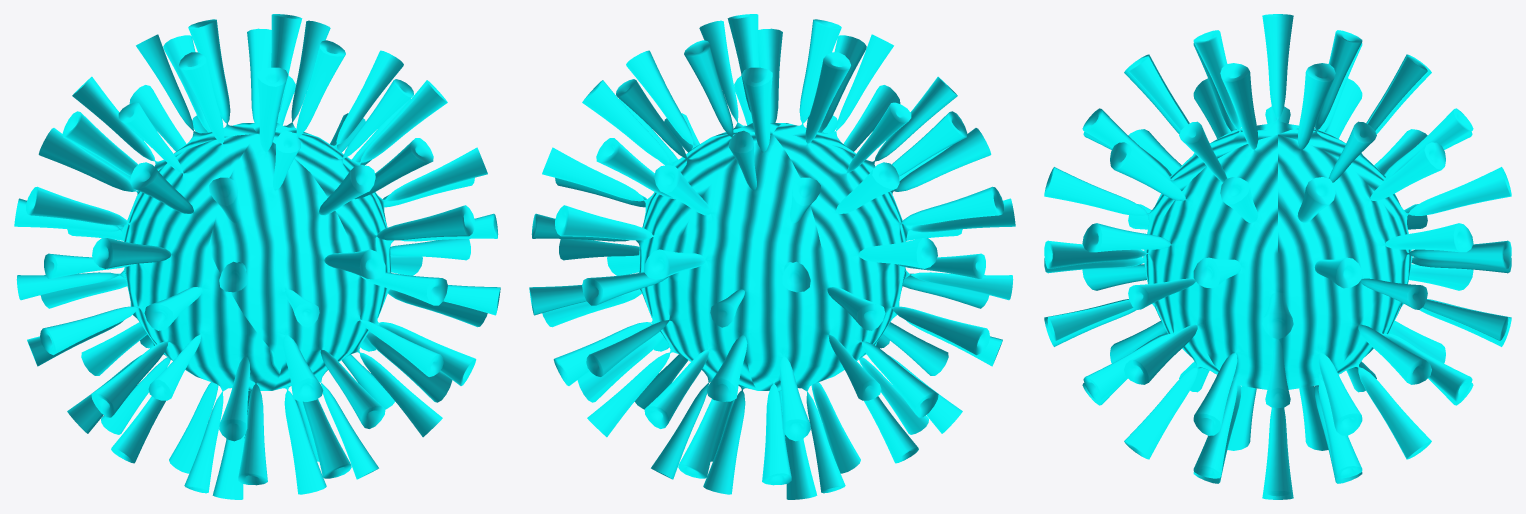
File: Virus.fbx
3 renders of one model, left to right at view 1: azimuth 30°, elevation 25°; view 2: azimuth 150°, elevation 25°; view 3: azimuth 270°, elevation 25°, orthographic.
Parts seen in each view (by area): view 1: Icosphere; view 2: Icosphere; view 3: Icosphere.
Part boxes in pixels (box(x1,y1,x2,y2)): Icosphere: box(14, 14, 500, 499); Icosphere: box(529, 14, 1015, 499); Icosphere: box(1044, 14, 1511, 499).
Size of the model in its own units: 599 by 584 by 577.
